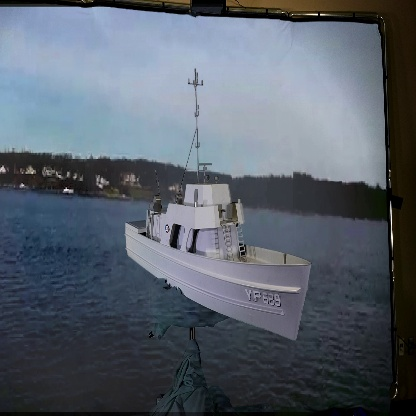YP689: (123, 73, 312, 341)
